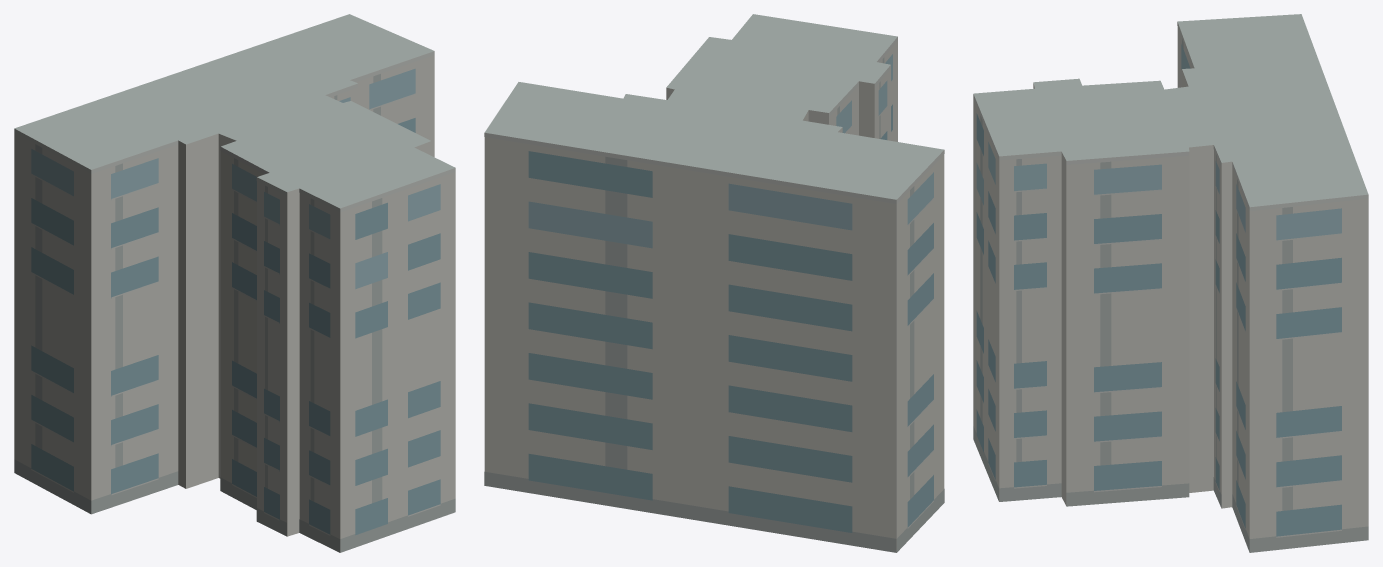
File: survey-upis-32759317.glb
The picture shows the model from 3 angles, left to right: view 1: azimuth 30°, elevation 25°; view 2: azimuth 150°, elevation 25°; view 3: azimuth 270°, elevation 25°; orthographic projection. The views are drawn at different scales.
Visible parts, largest first — view 1: survey-upis-32759317.tmp; view 2: survey-upis-32759317.tmp; view 3: survey-upis-32759317.tmp.
Part boxes in pixels (x1,y1,x2,y2): survey-upis-32759317.tmp: [14, 14, 455, 552]; survey-upis-32759317.tmp: [484, 14, 944, 552]; survey-upis-32759317.tmp: [973, 14, 1368, 552].
Size of the model in its own units: 23.99 by 20 by 20.74.
